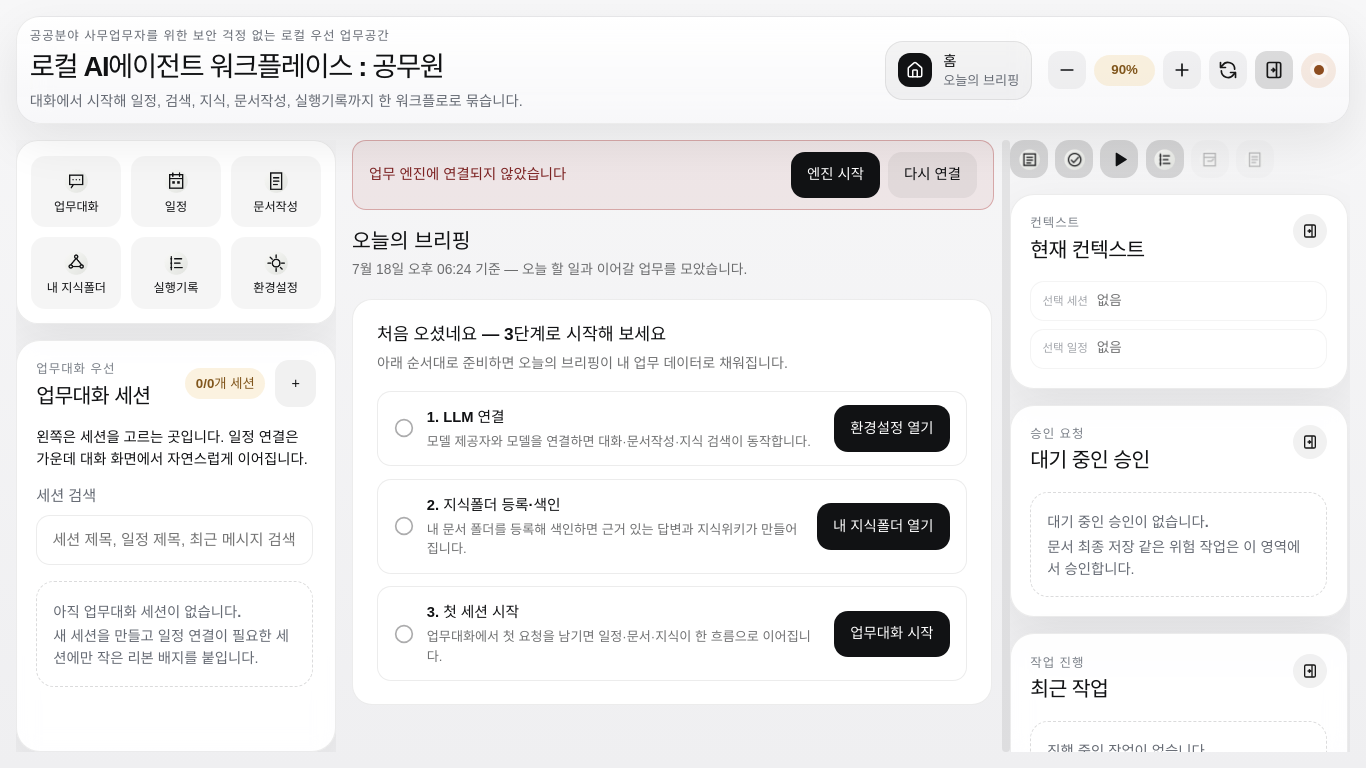
topic vocabulary pack import and candidate queue (vocab spec §5·§6) › renders the full validation error list and keeps the pack unapplied on import failure (§5)
The width and height of the screenshot is (1366, 768).
Click the button "내 지식폴더".
click(76, 273)  # box left=31, top=237, right=121, bottom=309
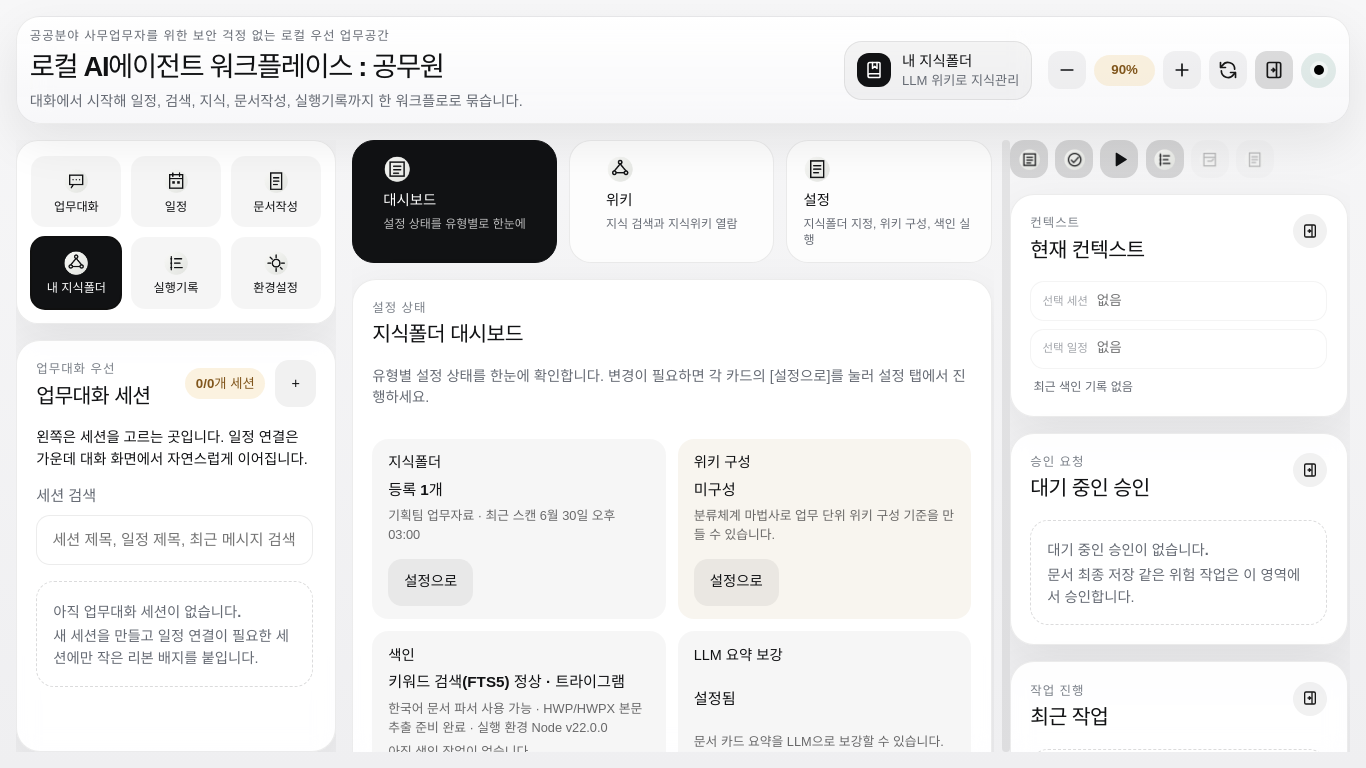
Click the tab "설정 지식폴더 지정, 위키 구성, 색인 실행".
click(889, 201)  # box left=786, top=140, right=992, bottom=263
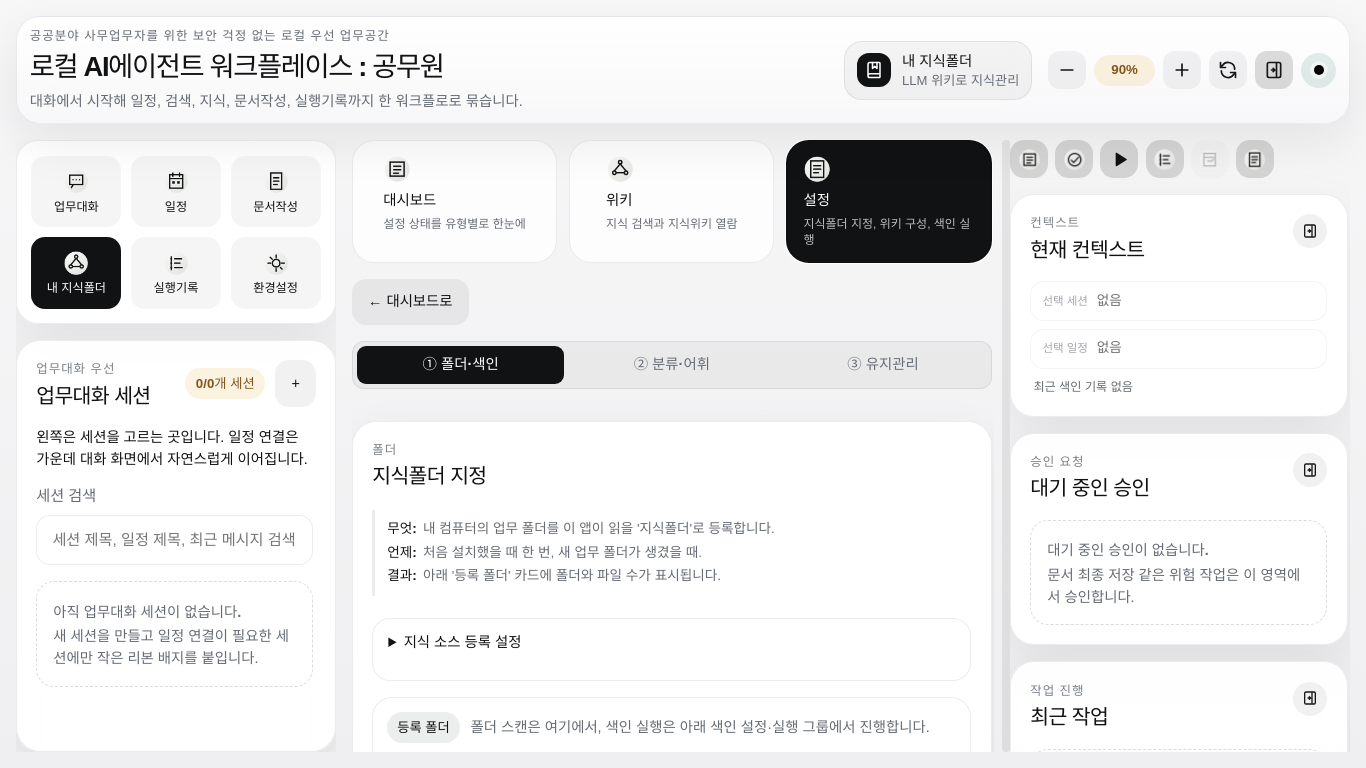
Click the button with test id "knowledge-settings-nav-taxonomy".
click(672, 365)  # box left=568, top=346, right=775, bottom=384
(page scrolled)
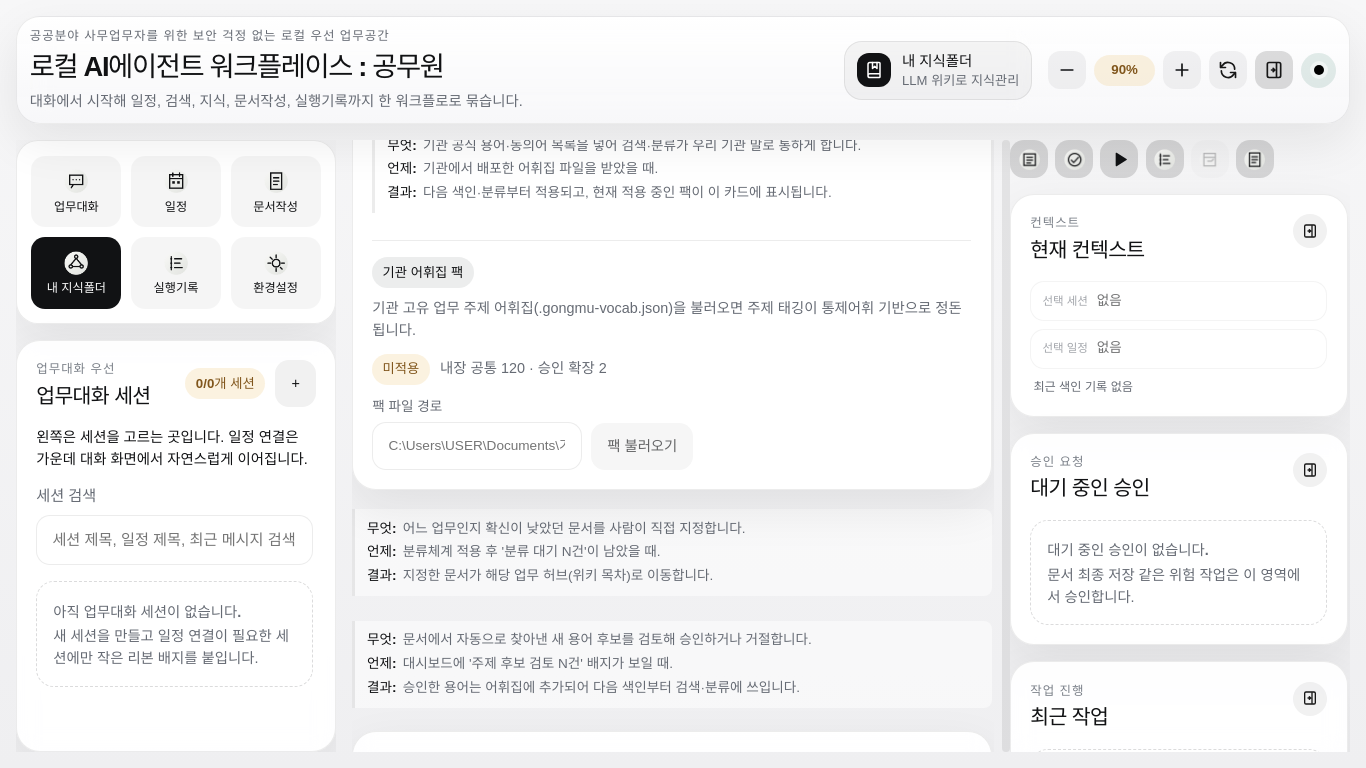
Type "C:/Docs/잘못된팩.gongmu-vocab.json" into the field labelled "팩 파일 경로".
click(477, 446); type("C:/Docs/잘못된팩.gongmu-vocab.json")  # box left=372, top=422, right=582, bottom=470
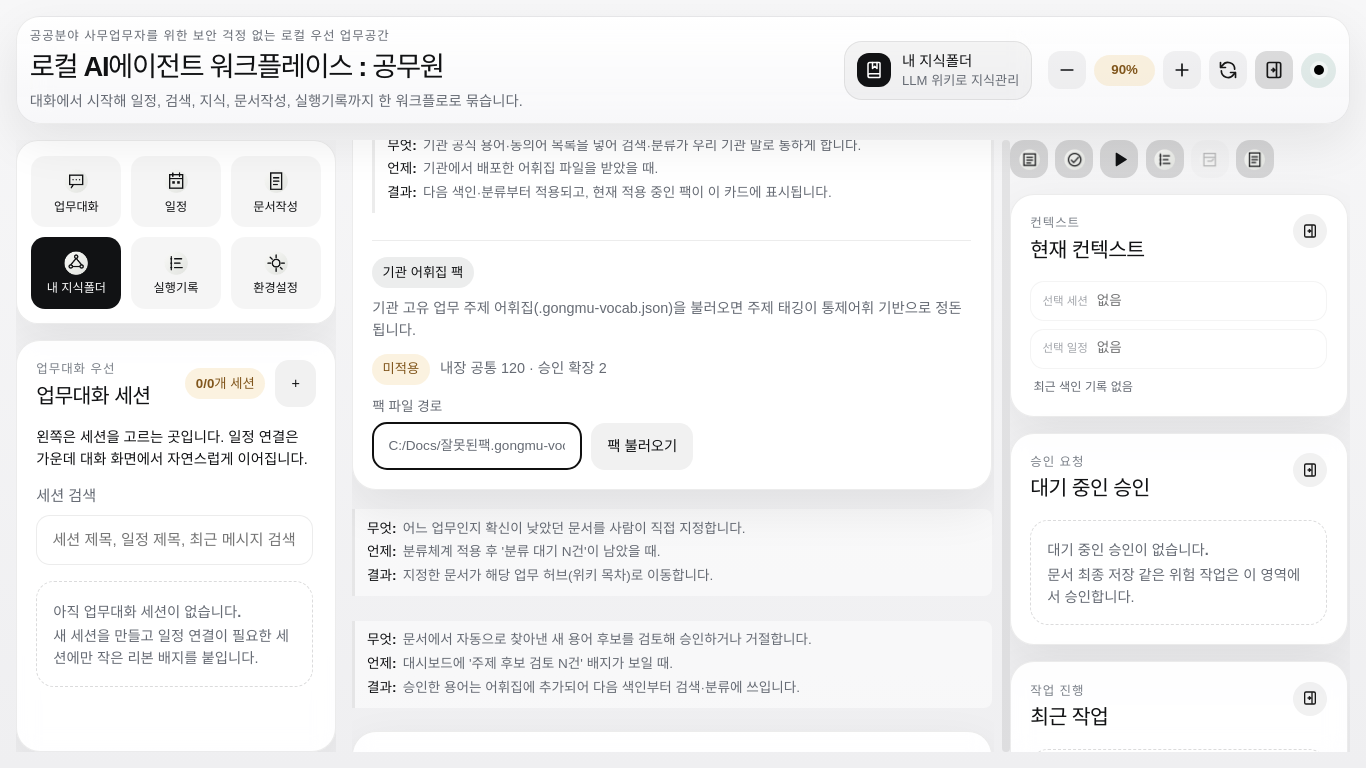
Click the button "팩 불러오기".
click(642, 447)  # box left=591, top=423, right=693, bottom=470
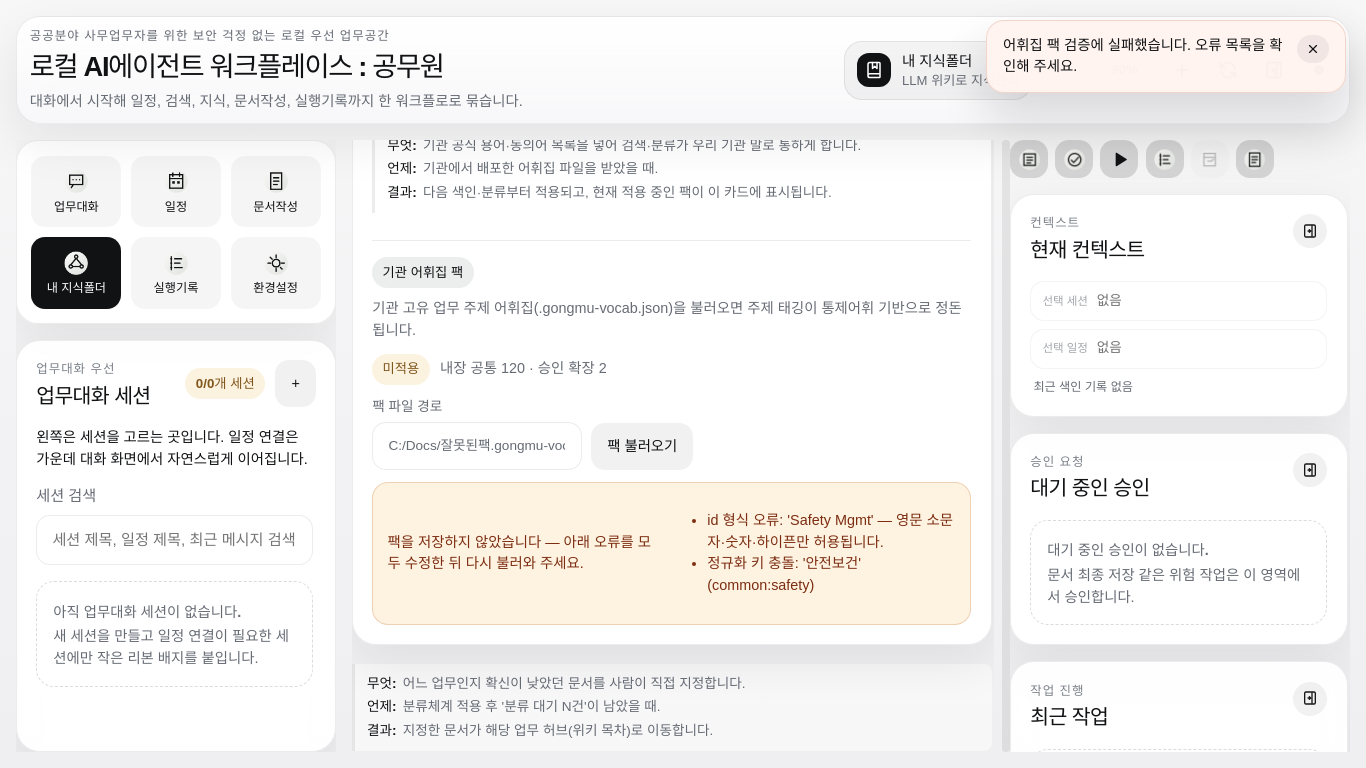
Expected: the element with test id "knowledge-vocab-pack-status" shows "미적용", left=383, top=361, right=419, bottom=376
Expected: the message with test id "knowledge-vocab-import-errors" shows "id 형식 오류: 'Safety Mgmt' — 영문 소문자·숫자·하이픈만 허용됩니다.", left=707, top=512, right=953, bottom=550
Expected: the message with test id "knowledge-vocab-import-errors" shows "정규화 키 충돌: '안전보건' (common:safety)", left=707, top=555, right=861, bottom=593
